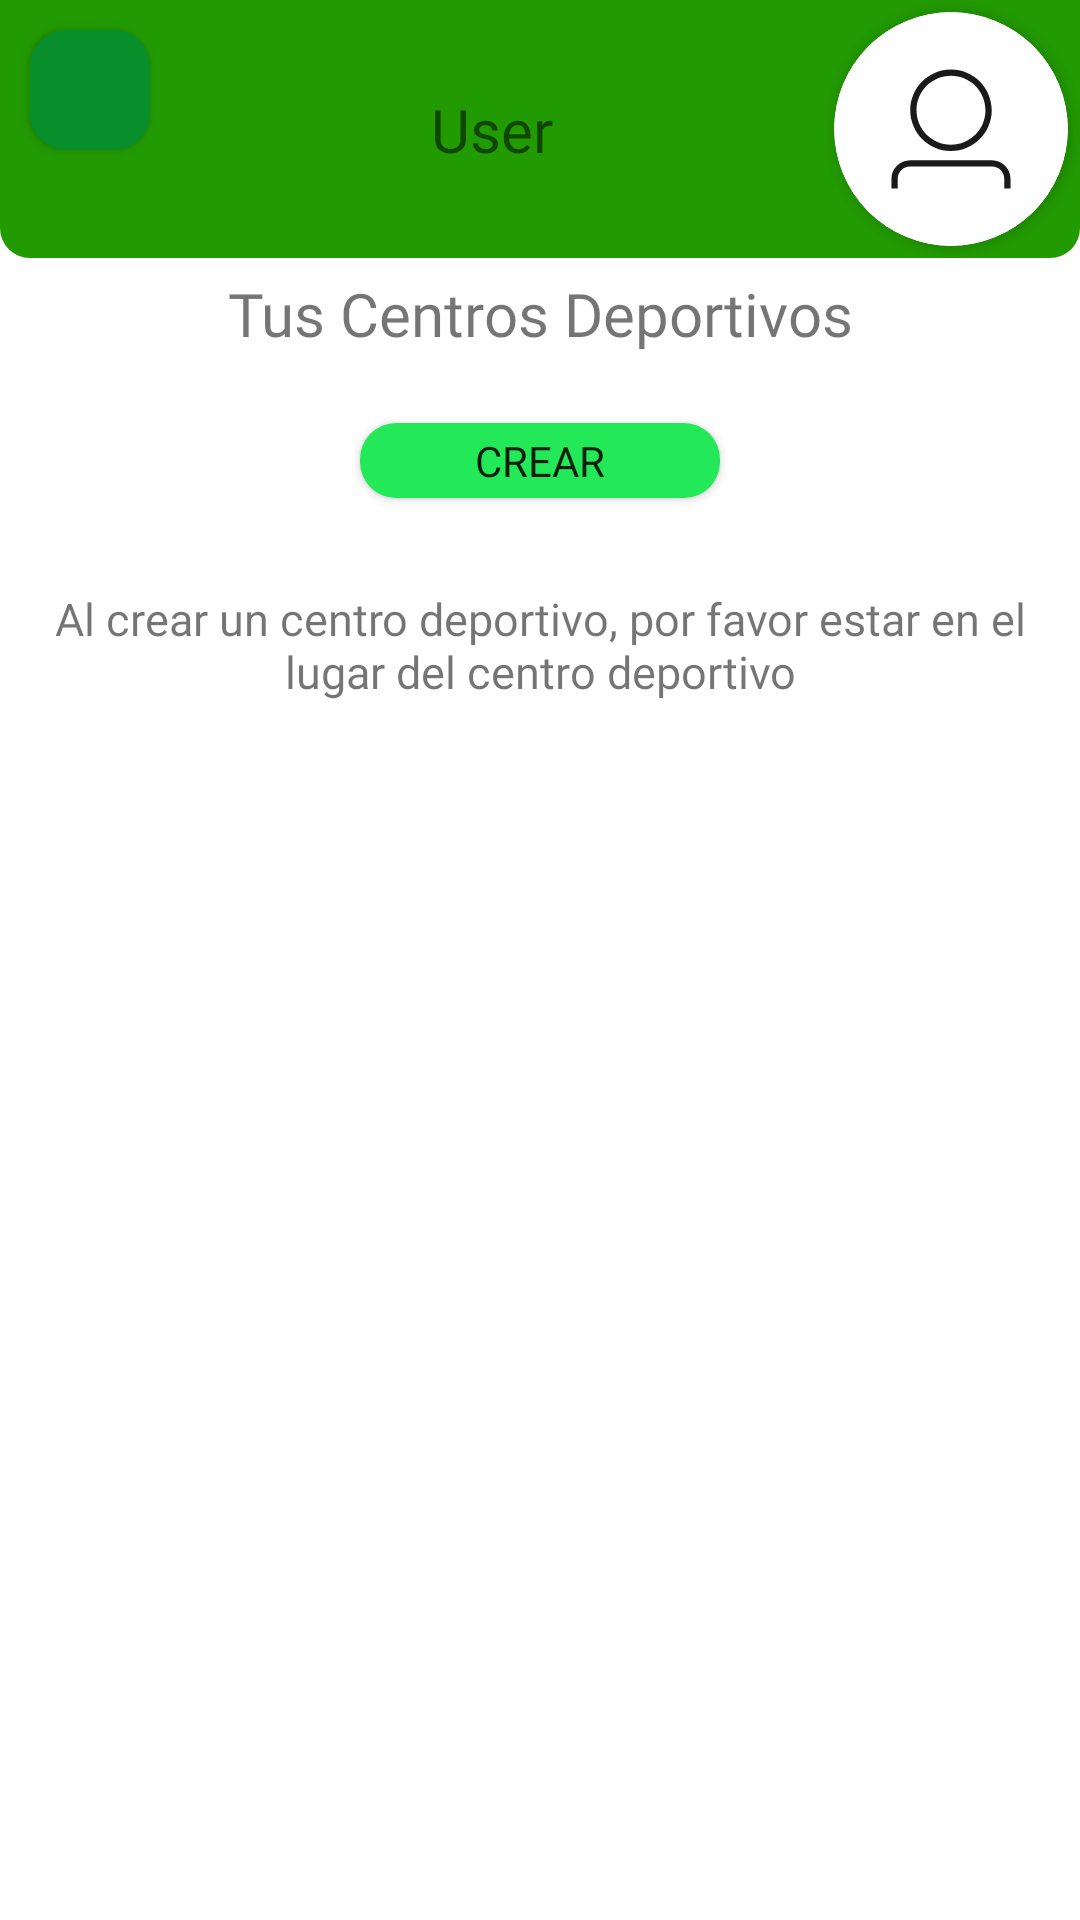

Icons on this 1080w x 1920h Android screen, each with its box as (x1, y1, x2, y2):
user: (834, 12, 1068, 246)
